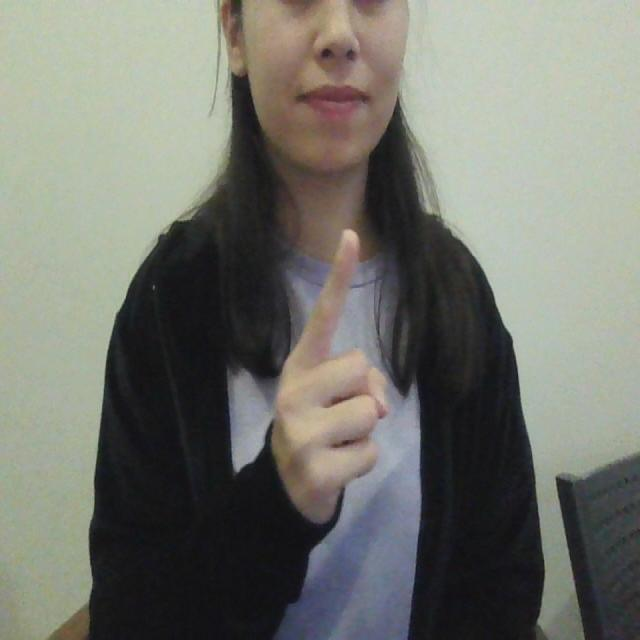Hayir: (262, 212, 401, 556)
